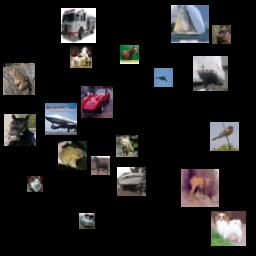airplane: (45, 103, 77, 135), (154, 68, 173, 87)
automobile: (81, 86, 113, 118), (79, 213, 95, 229)
bird: (210, 122, 239, 151)
cat: (116, 135, 138, 157), (27, 176, 43, 192)
deer: (181, 169, 219, 207), (212, 25, 231, 44)
dog: (211, 211, 246, 246)
frog: (3, 63, 35, 95), (58, 141, 87, 170)
ship: (171, 5, 209, 43), (193, 56, 228, 91), (117, 167, 146, 196)
truck: (61, 8, 96, 43)
